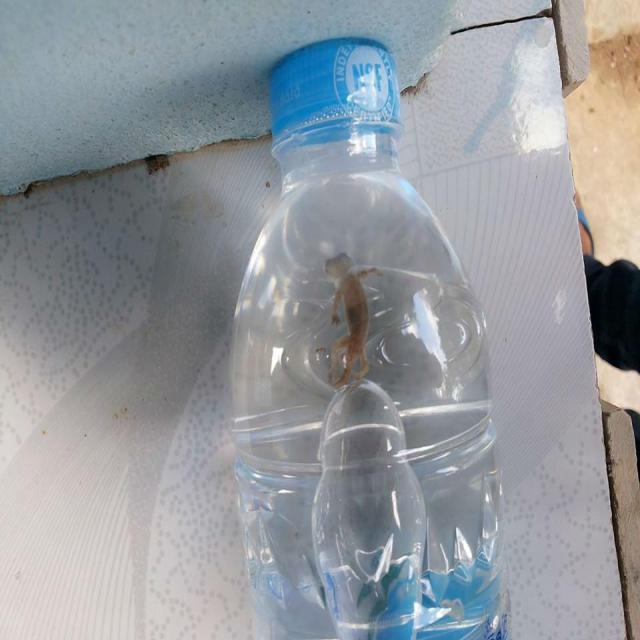bottle: (218, 28, 520, 640)
